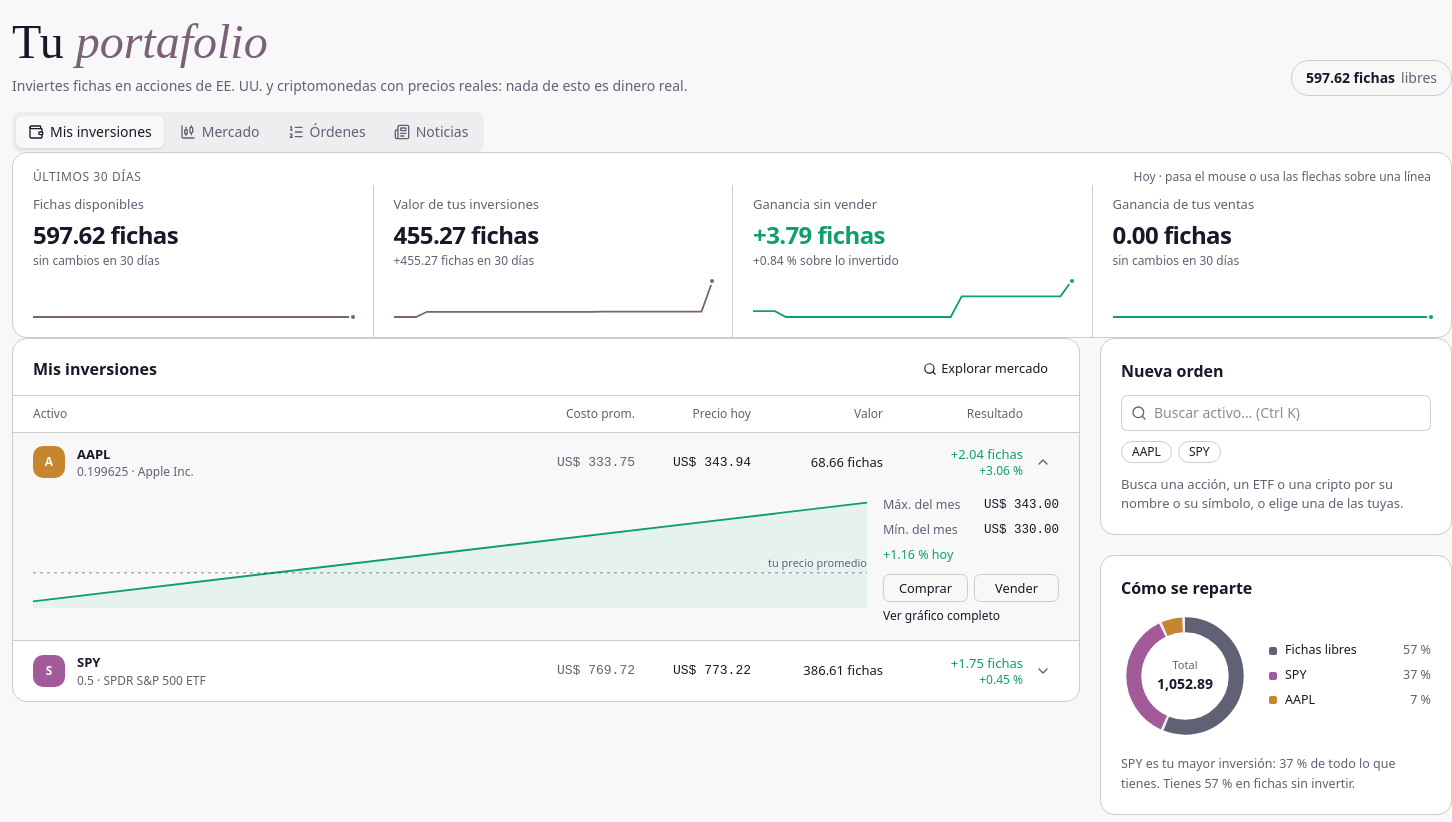
Scenario: PortfolioPage › no deja vender mas de lo que se tiene
Check: the button "AAPL" is shown, box left=13, top=432, right=1079, bottom=492
Click the button "Vender" at (1016, 588), box left=974, top=574, right=1059, bottom=602
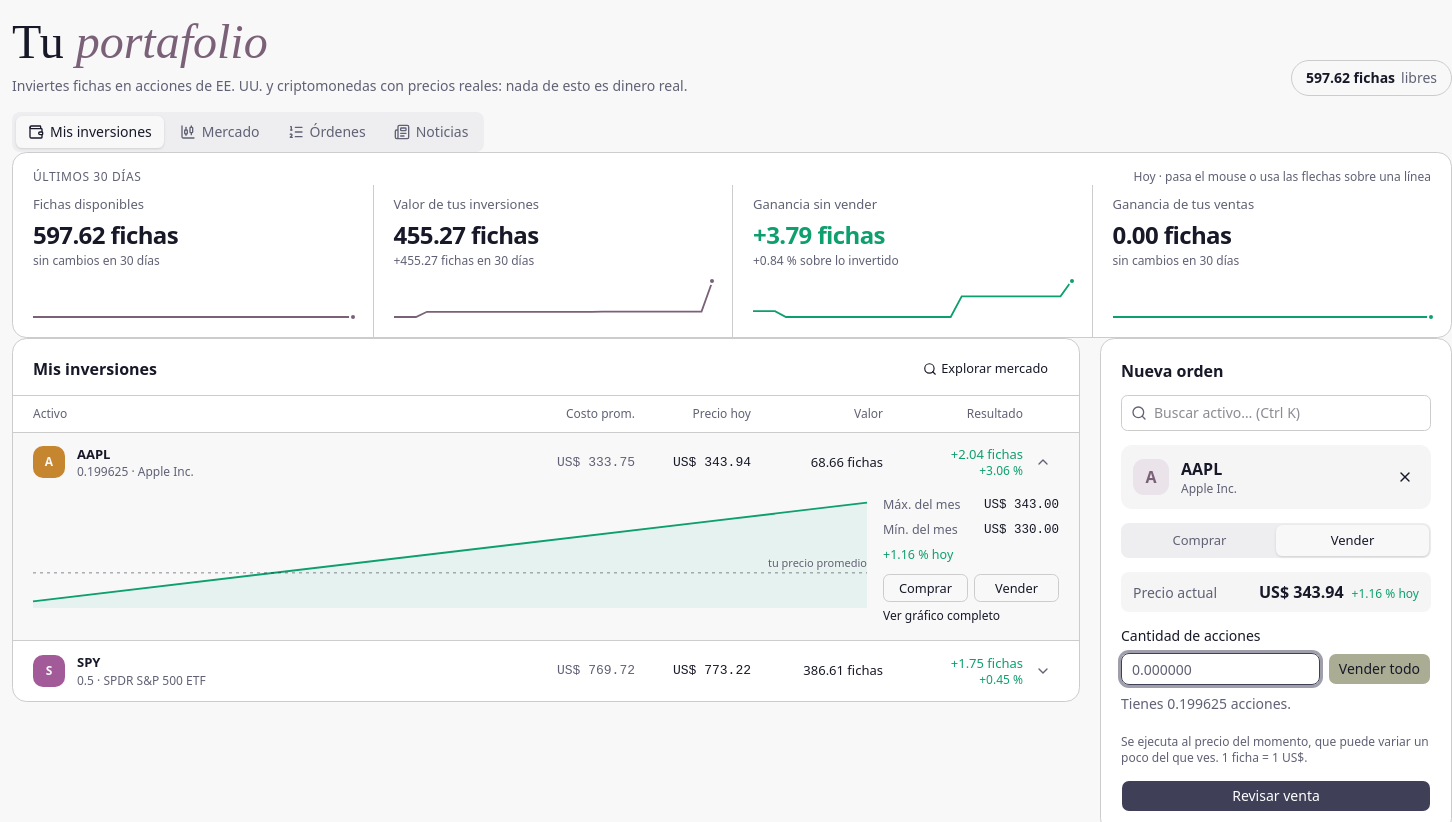
Type "1" into the field labelled "Cantidad de acciones" at (1220, 669), box left=1121, top=653, right=1320, bottom=685
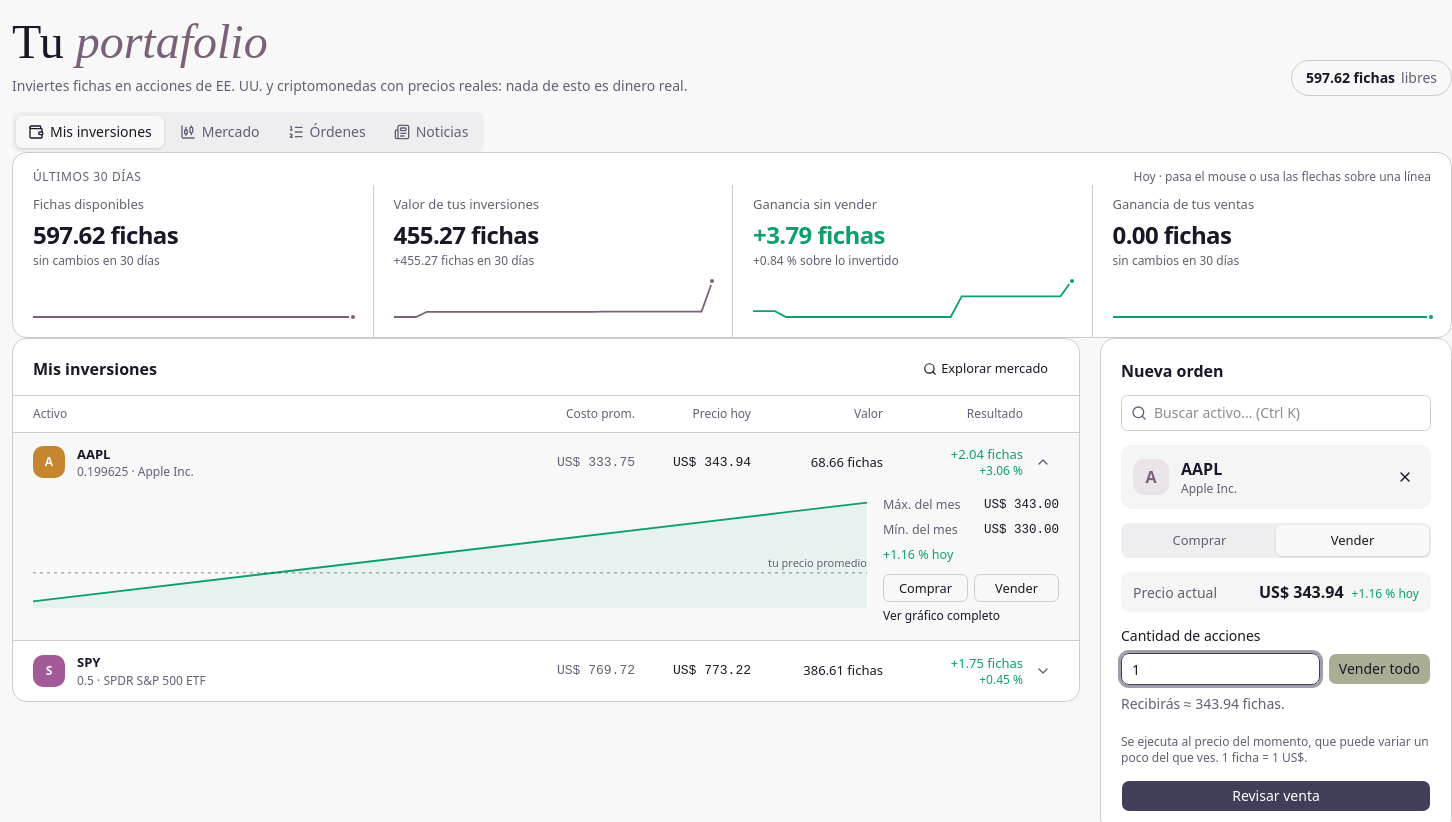
Check: the button "Revisar venta" is enabled
Click the button "Revisar venta" at (1276, 796), box left=1121, top=780, right=1431, bottom=812
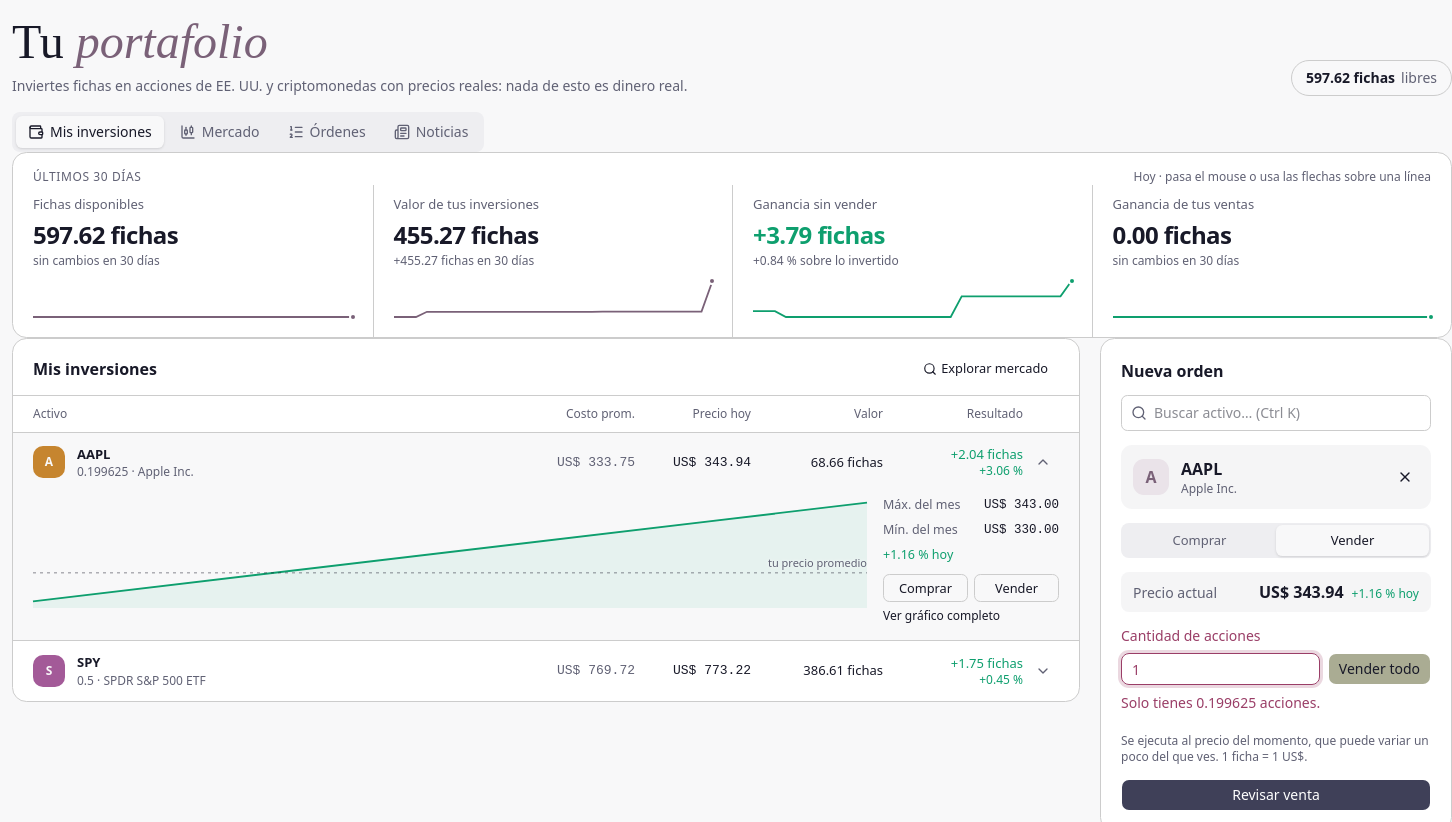
Check: the text "Solo tienes 0.199625 acciones." is shown, box left=1121, top=693, right=1320, bottom=712
